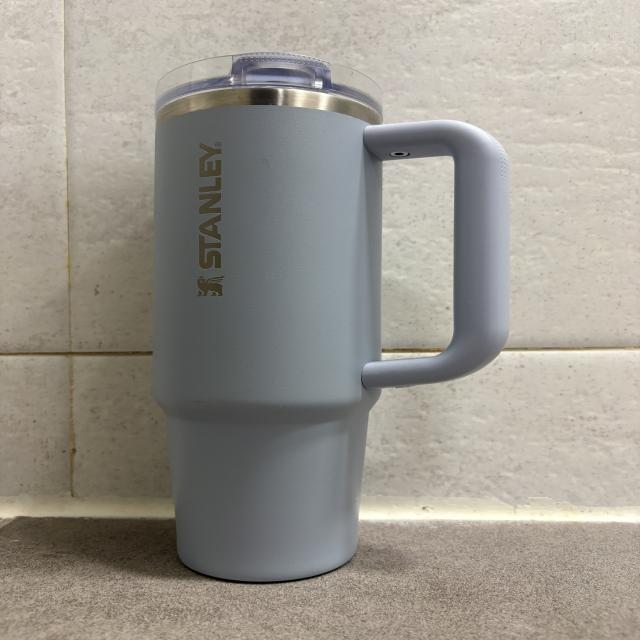waterbottle: (156, 54, 508, 588)
